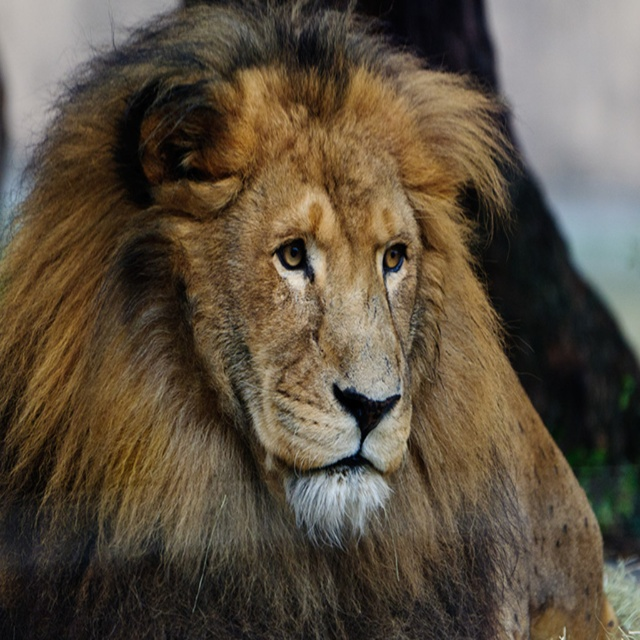Lion: (0, 0, 630, 639)
